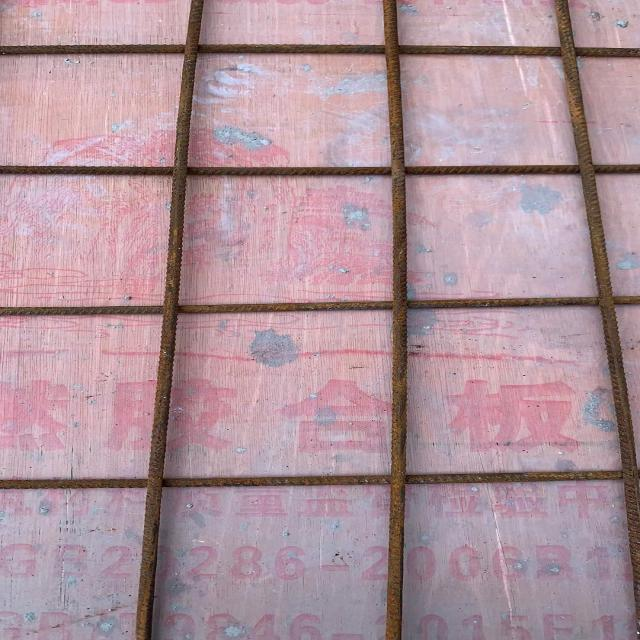ribbed bar: (552, 0, 639, 618), (128, 0, 205, 639), (380, 0, 408, 639), (0, 468, 639, 491), (0, 295, 639, 316), (0, 43, 639, 59), (0, 162, 639, 177)
